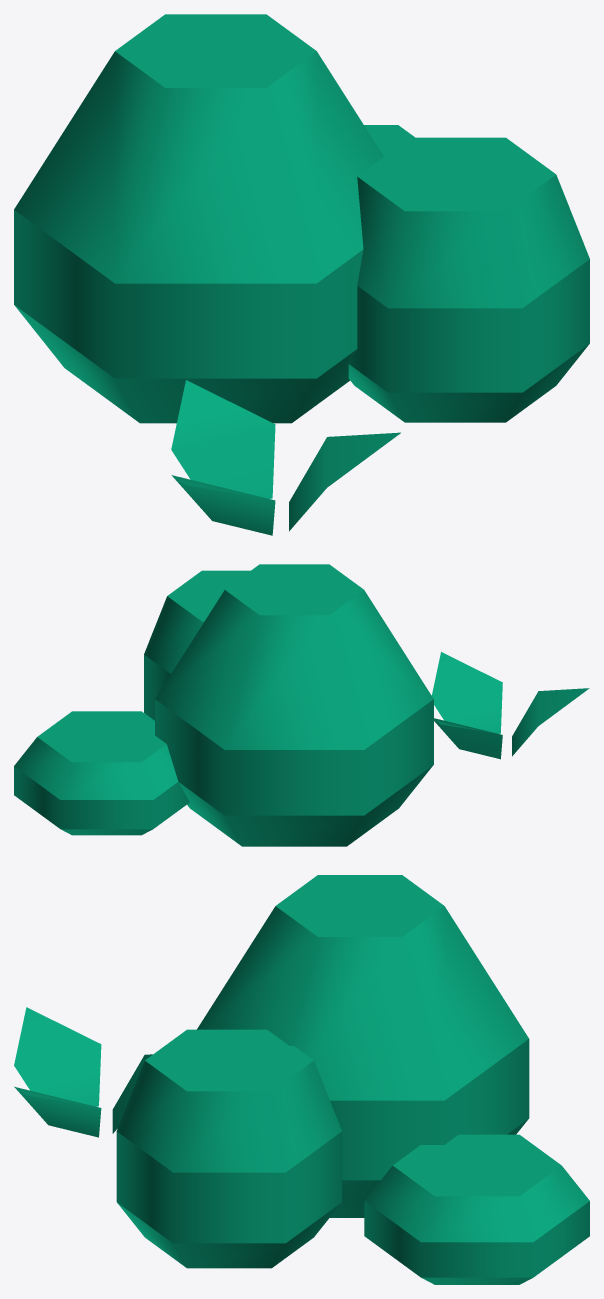
File: bushesBIGGER.fbx
3 renders of one model, top to bottom at view 1: azimuth 30°, elevation 25°; view 2: azimuth 150°, elevation 25°; view 3: azimuth 270°, elevation 25°, orthographic. The views are drawn at different scales.
Parts seen in each view (by area): view 1: leafs_cone, leafs_round (×2), plant_small; view 2: leafs_cone, leafs_round (×2), plant_small; view 3: leafs_round (×2), leafs_cone, plant_small.
Boxes of the visible parts, <box> form: leafs_cone: <box>14,14,383,423</box>; leafs_round (×2): <box>348,125,589,422</box>; plant_small: <box>171,380,400,535</box>; leafs_cone: <box>155,564,433,846</box>; leafs_round (×2): <box>14,570,250,835</box>; plant_small: <box>431,652,589,759</box>; leafs_round (×2): <box>116,1029,589,1284</box>; leafs_cone: <box>197,875,529,1217</box>; plant_small: <box>14,1007,152,1137</box>.
Size of the model in its own units: 26.34 by 15 by 29.49.
